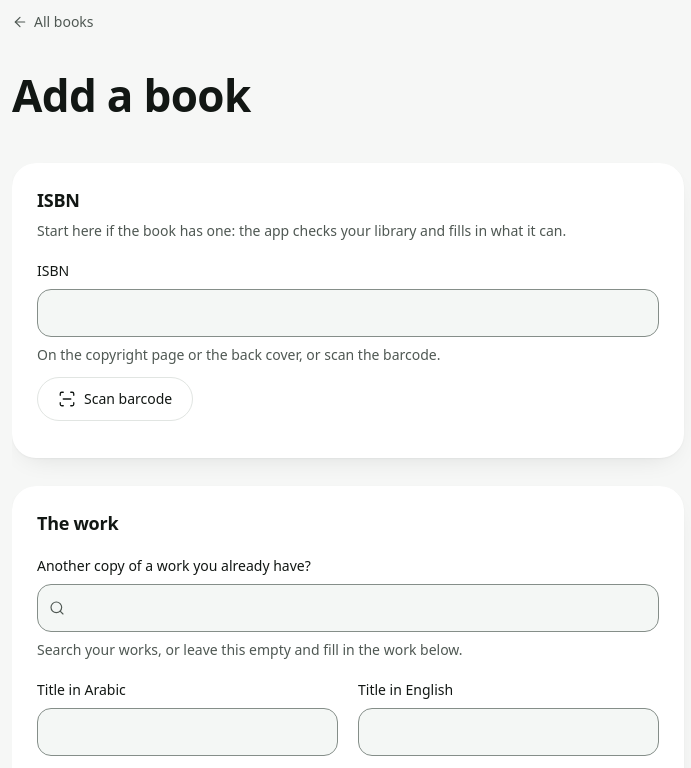
Test: BookFormPage › "You already have this" › reads Arabic digits, and the notice goes when the ISBN is changed
This screenshot has width=691, height=768.
Type "ردمك ٩٧٨٠٣٠٦٤٠٦١٥٧" into the field labelled "ISBN" at (348, 313), box [37,289,659,337]
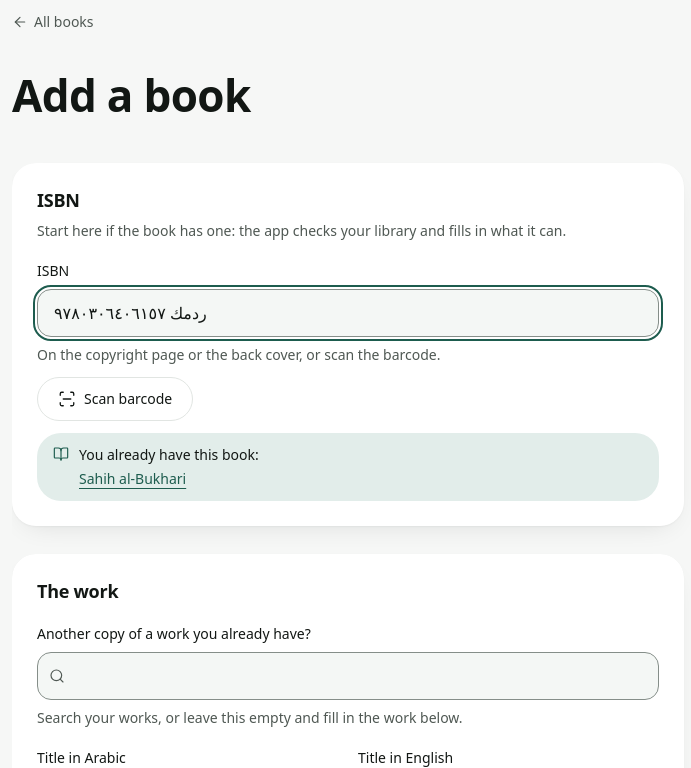
Now the text "You already have this book:" is shown, box [79,445,259,465]
Type "1" into the field labelled "ISBN" at (348, 313), box [37,289,659,337]
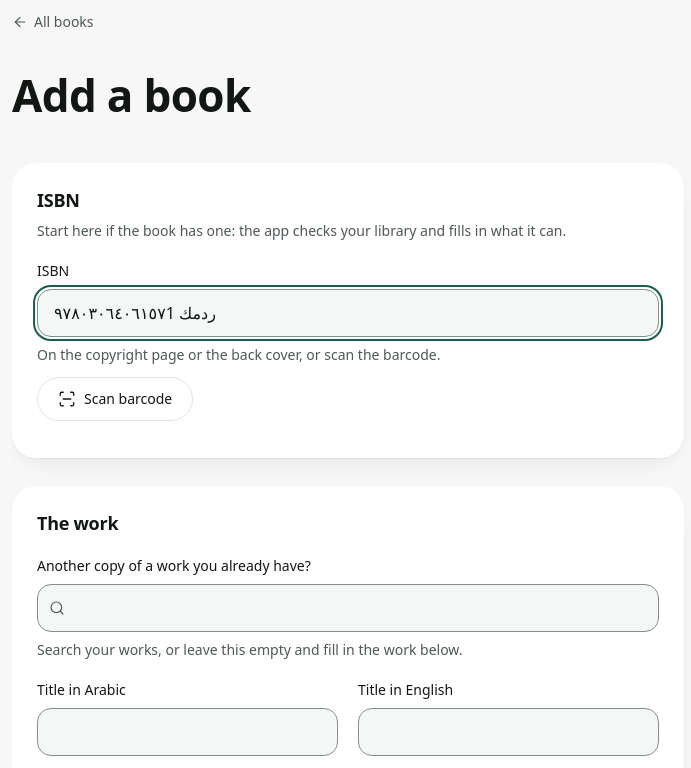
Now the text "You already have this book:" is gone
